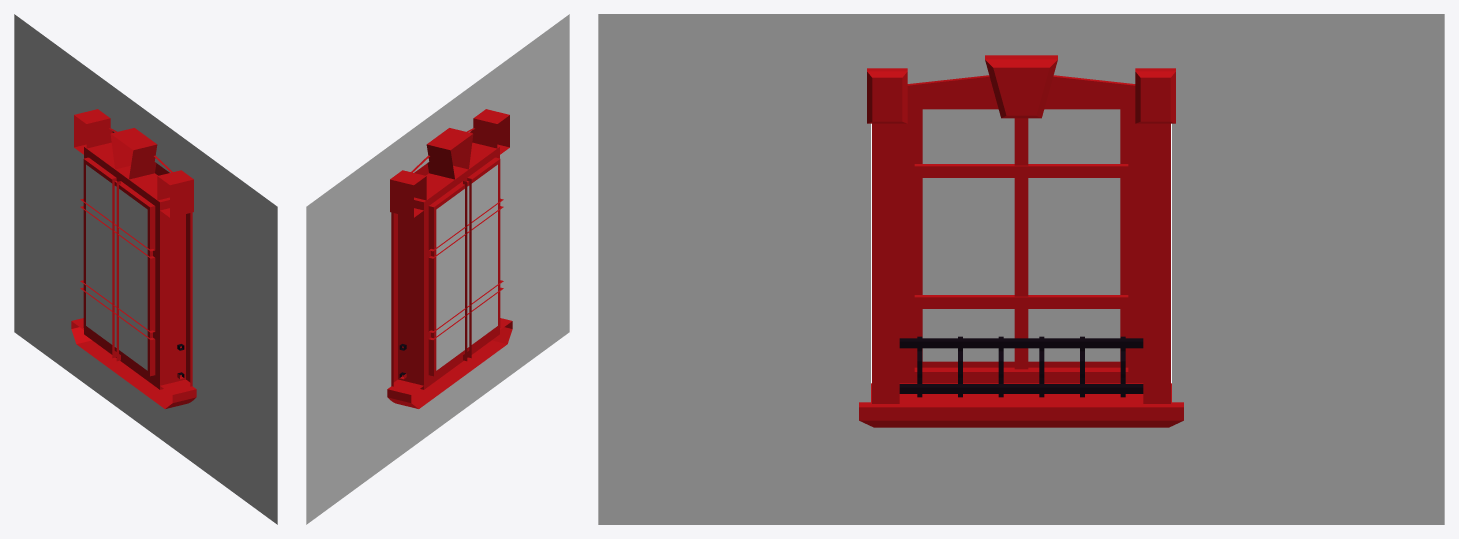
Rendered from NY_wallWindow.obj.
3 views of the same model, side by side, from view 1: azimuth 30°, elevation 25°; view 2: azimuth 150°, elevation 25°; view 3: azimuth 270°, elevation 25° (orthographic). The views are drawn at different scales.
Parts seen in each view (by area): view 1: A_EXPO.obj.002_wall.001, A_EXPO.obj.002_frame, A_EXPO.obj.002_glass.001; view 2: A_EXPO.obj.002_wall.001, A_EXPO.obj.002_frame, A_EXPO.obj.002_glass.001; view 3: A_EXPO.obj.002_wall.001, A_EXPO.obj.002_frame, A_EXPO.obj.002_glass.001, A_EXPO.obj.002_barrels.
Part boxes in pixels (x1,y1,x2,y2): A_EXPO.obj.002_wall.001: [14, 14, 277, 524]; A_EXPO.obj.002_frame: [71, 109, 196, 408]; A_EXPO.obj.002_glass.001: [86, 164, 147, 370]; A_EXPO.obj.002_wall.001: [306, 14, 569, 524]; A_EXPO.obj.002_frame: [387, 109, 512, 408]; A_EXPO.obj.002_glass.001: [436, 164, 497, 370]; A_EXPO.obj.002_wall.001: [598, 14, 1444, 524]; A_EXPO.obj.002_frame: [859, 55, 1183, 427]; A_EXPO.obj.002_glass.001: [922, 109, 1120, 361]; A_EXPO.obj.002_barrels: [899, 336, 1143, 397].
Size of the model in its own units: 0.2654 by 2 by 3.
